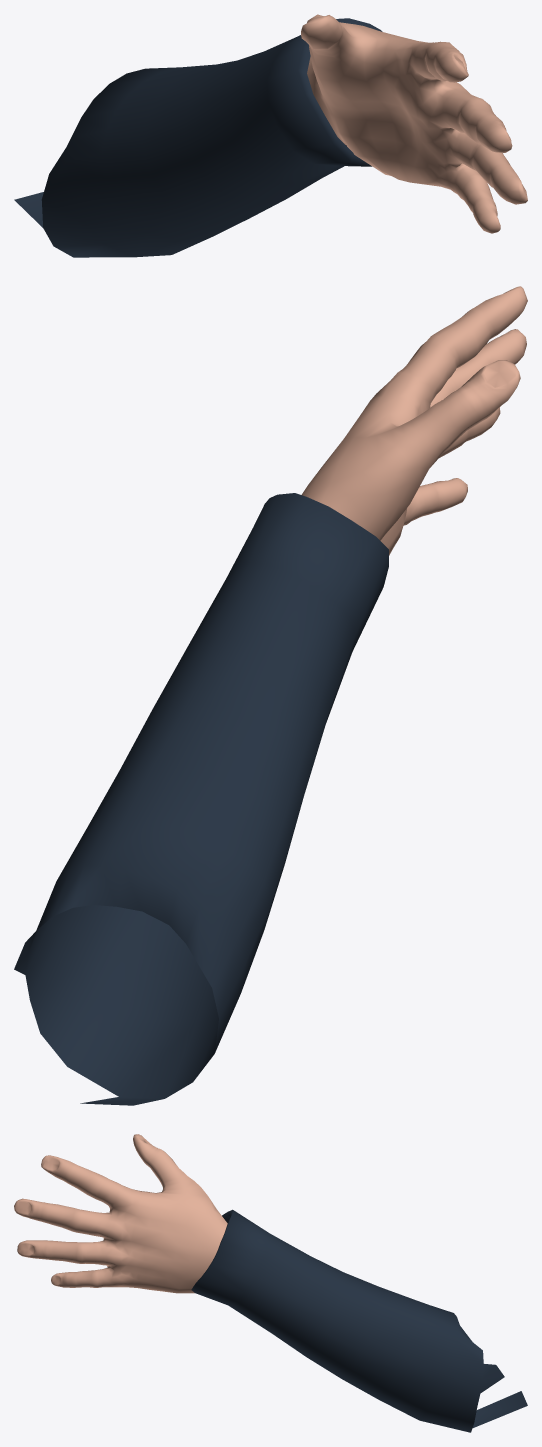
Rendered from hand-open.glb.
The picture shows the model from 3 angles, top to bottom: view 1: azimuth 30°, elevation 25°; view 2: azimuth 150°, elevation 25°; view 3: azimuth 270°, elevation 25°; orthographic projection. The views are drawn at different scales.
Visible parts, largest first — view 1: Player open clothes, Player open skin; view 2: Player open clothes, Player open skin; view 3: Player open clothes, Player open skin.
Part boxes in pixels (left/top/right/bottom): Player open clothes: left=14, top=18, right=382, bottom=257; Player open skin: left=301, top=14, right=527, bottom=233; Player open clothes: left=14, top=493, right=388, bottom=1105; Player open skin: left=301, top=286, right=527, bottom=555; Player open clothes: left=191, top=1209, right=527, bottom=1432; Player open skin: left=14, top=1134, right=227, bottom=1293.
Size of the model in its own units: 0.1852 by 0.4689 by 0.7915.
